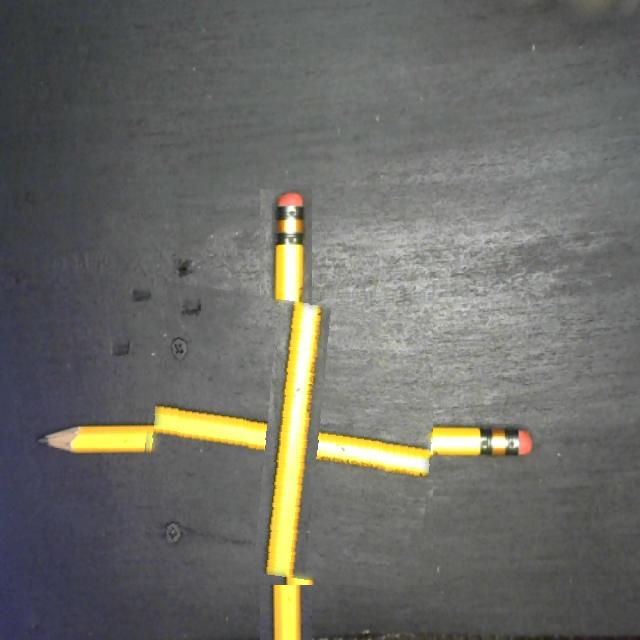biodegradable: (139, 291, 433, 585)
